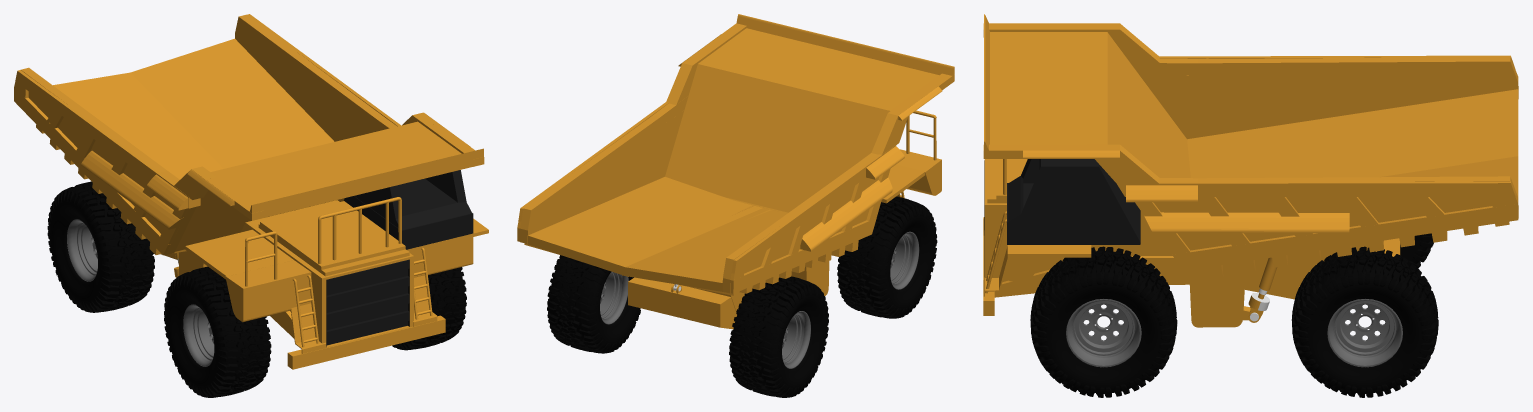
The model's file is dump_truck_new.glb.
The picture shows the model from 3 angles, left to right: view 1: azimuth 30°, elevation 25°; view 2: azimuth 150°, elevation 25°; view 3: azimuth 270°, elevation 25°; orthographic projection. The views are drawn at different scales.
Parts seen in each view (by area): view 1: Basket, Cylinder.014, Cube.001, Cube.006, wheel_protector.001, wheel_protector, wheel.001, wheel, Cylinder.016, wheel_protector.002, disk, disk.001 (+1 smaller); view 2: Basket, Cylinder.014, wheel_protector.001, wheel_protector, wheel_protector.003, wheel.001, wheel, wheel.003, disk, disk.001, disk.003, Cylinder.016; view 3: Basket, Cylinder.014, Cube.001, wheel.002, wheel.003, wheel_protector.003, wheel_protector.002, disk.003, disk.002, Cylinder.016.
Part boxes in pixels (<box>): Basket: <box>14,14,484,255</box>; Cylinder.014: <box>161,200,488,369</box>; Cube.001: <box>344,170,473,249</box>; Cube.006: <box>326,259,409,346</box>; wheel_protector.001: <box>47,181,154,312</box>; wheel_protector: <box>164,266,271,397</box>; wheel.001: <box>49,188,152,307</box>; wheel: <box>165,273,268,392</box>; Cylinder.016: <box>245,197,432,347</box>; wheel_protector.002: <box>392,267,466,350</box>; disk: <box>183,304,214,366</box>; disk.001: <box>67,219,97,281</box>; Basket: <box>517,14,954,295</box>; Cylinder.014: <box>628,149,941,329</box>; wheel_protector.001: <box>729,276,828,397</box>; wheel_protector: <box>837,196,937,318</box>; wheel_protector.003: <box>547,255,640,353</box>; wheel.001: <box>731,282,827,392</box>; wheel: <box>839,203,935,313</box>; wheel.003: <box>549,256,640,348</box>; disk: <box>890,231,919,289</box>; disk.001: <box>782,311,810,368</box>; disk.003: <box>600,271,628,324</box>; Cylinder.016: <box>900,110,936,198</box>; Basket: <box>983,14,1518,278</box>; Cylinder.014: <box>983,159,1400,327</box>; Cube.001: <box>1007,159,1140,244</box>; wheel.002: <box>1036,251,1171,393</box>; wheel.003: <box>1297,251,1432,393</box>; wheel_protector.003: <box>1291,246,1438,397</box>; wheel_protector.002: <box>1030,246,1177,397</box>; disk.003: <box>1327,299,1402,367</box>; disk.002: <box>1066,299,1141,367</box>; Cylinder.016: <box>985,159,1006,293</box>.
Bounding box in the file's own units: 2.78 × 2.36 × 4.46.
